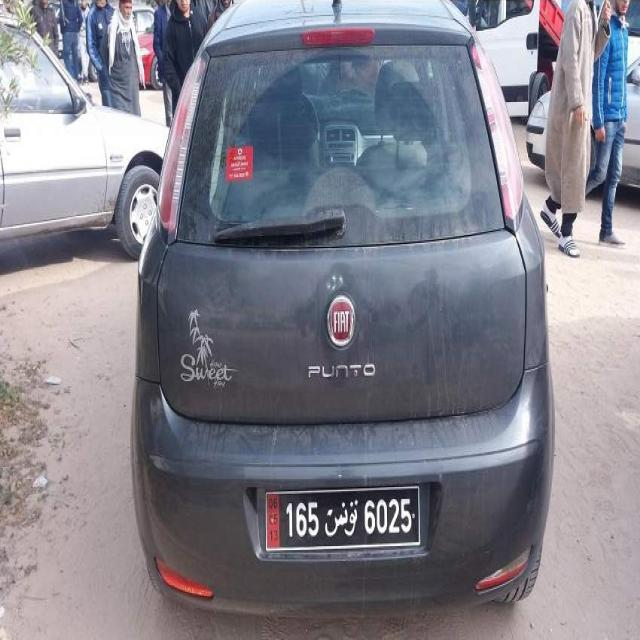licence plate: (280, 489, 419, 547)
